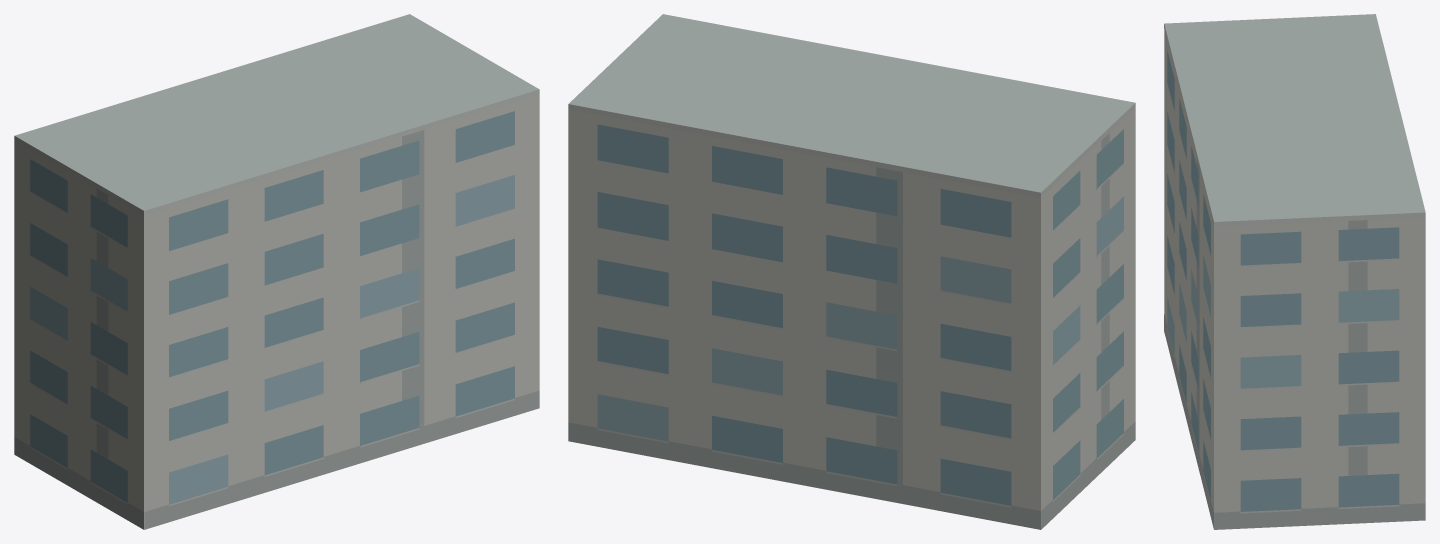
The model's file is residential-97b6906d-24a0-4b8c-9d04-95da8885e129.glb.
3 renders of one model, left to right at view 1: azimuth 30°, elevation 25°; view 2: azimuth 150°, elevation 25°; view 3: azimuth 270°, elevation 25°, orthographic. The views are drawn at different scales.
Parts seen in each view (by area): view 1: residential-97b6906d-24a0-4b8c-9d04-95da8885e129.tmp; view 2: residential-97b6906d-24a0-4b8c-9d04-95da8885e129.tmp; view 3: residential-97b6906d-24a0-4b8c-9d04-95da8885e129.tmp.
Part boxes in pixels (x1=…): residential-97b6906d-24a0-4b8c-9d04-95da8885e129.tmp: x1=14, y1=14, x2=539, y2=529; residential-97b6906d-24a0-4b8c-9d04-95da8885e129.tmp: x1=568, y1=14, x2=1135, y2=529; residential-97b6906d-24a0-4b8c-9d04-95da8885e129.tmp: x1=1164, y1=14, x2=1425, y2=529.
Bounding box in the file's own units: 22.1 × 15.25 × 11.75.
